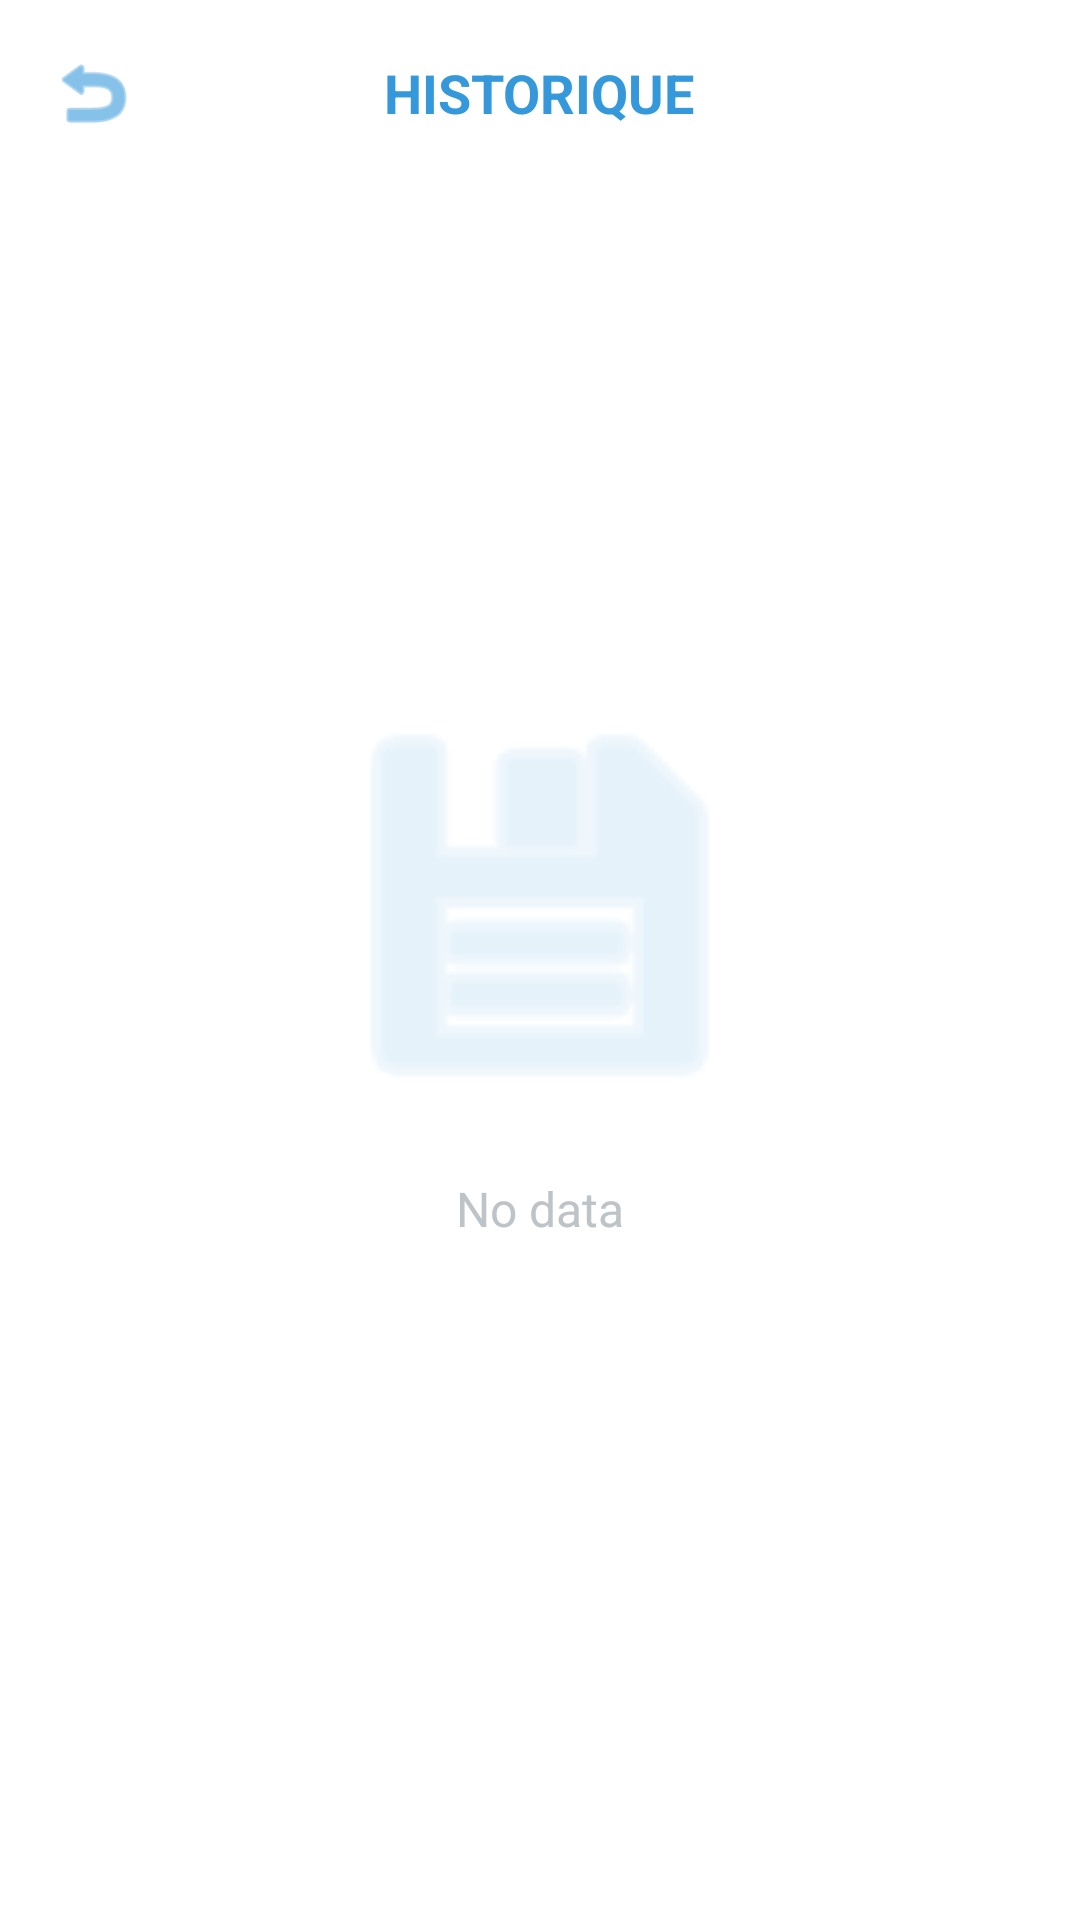

Screen size 1080 x 1920. Icon name, then its center in pixels as (x=x, y=y):
revert: (x=94, y=93)
save: (x=540, y=905)
